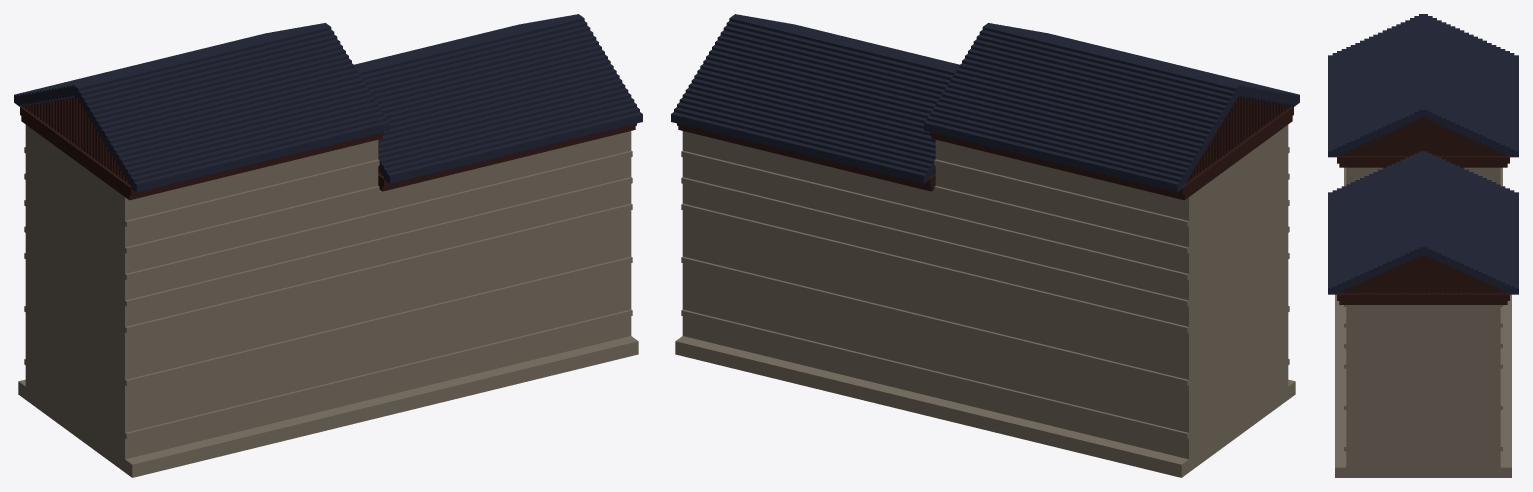
Rendered from Korean castle_wall_01.FBX.
The picture shows the model from 3 angles, left to right: view 1: azimuth 30°, elevation 25°; view 2: azimuth 150°, elevation 25°; view 3: azimuth 270°, elevation 25°; orthographic projection. The views are drawn at different scales.
Visible parts, largest first — view 1: Voxel_Korean_traditional castle-8; view 2: Voxel_Korean_traditional castle-8; view 3: Voxel_Korean_traditional castle-8.
Boxes of the visible parts, x1,y1,x2,y2 form: Voxel_Korean_traditional castle-8: (14, 14, 642, 477); Voxel_Korean_traditional castle-8: (671, 14, 1299, 477); Voxel_Korean_traditional castle-8: (1328, 14, 1518, 477).
Bounding box in the file's own units: 400 × 264 × 168.
1 material, 1 textured.
